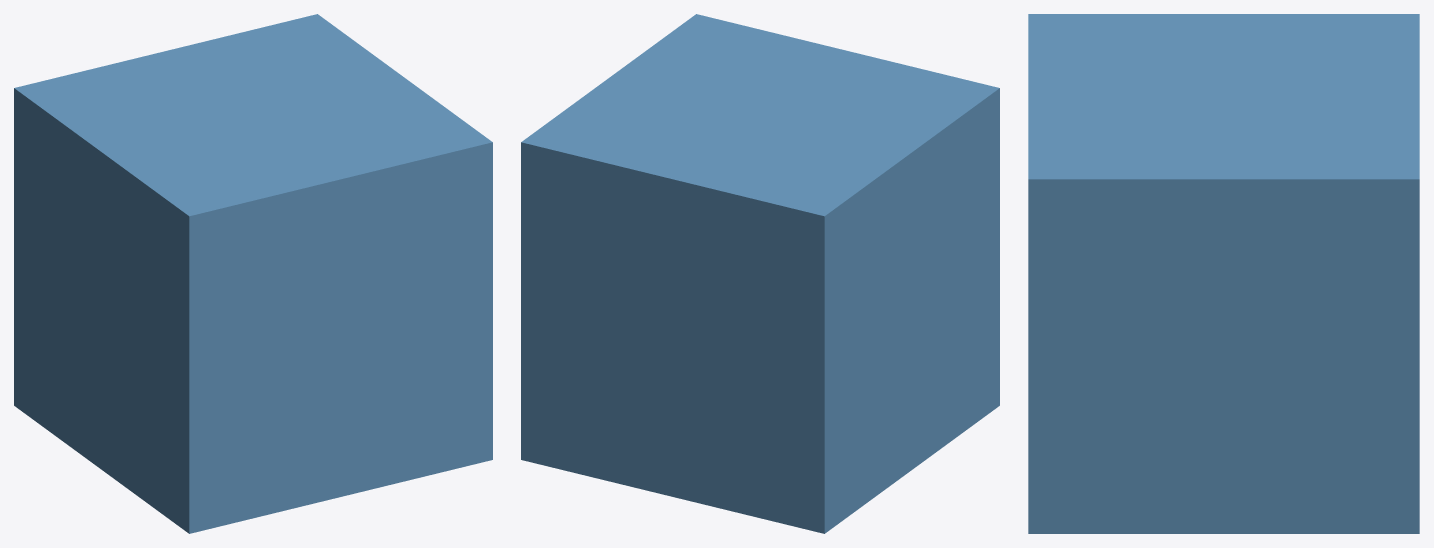
Rendered from Water_Full.glb.
The picture shows the model from 3 angles, left to right: view 1: azimuth 30°, elevation 25°; view 2: azimuth 150°, elevation 25°; view 3: azimuth 270°, elevation 25°; orthographic projection. The views are drawn at different scales.
Visible parts, largest first — view 1: Water_Full_body; view 2: Water_Full_body; view 3: Water_Full_body.
Boxes of the visible parts, bbox=[...] form: Water_Full_body: bbox=[14, 14, 492, 533]; Water_Full_body: bbox=[521, 14, 999, 533]; Water_Full_body: bbox=[1028, 14, 1419, 533].
Bounding box in the file's own units: 1 × 1 × 1.
